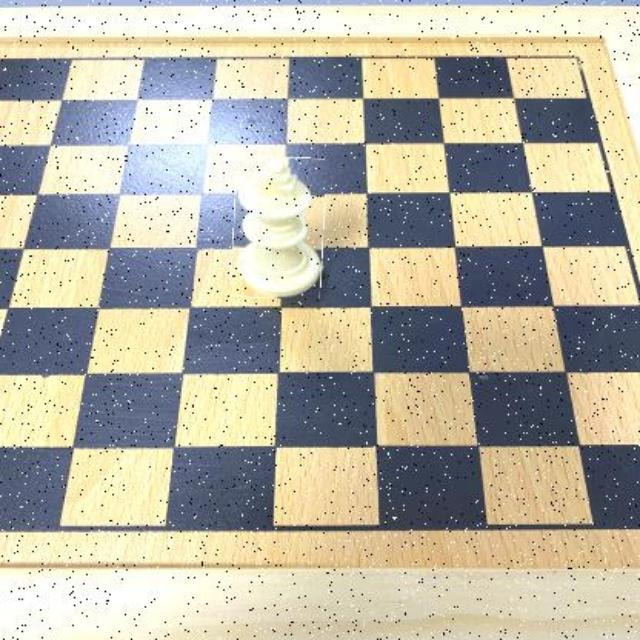white-king: (232, 158, 324, 298)
